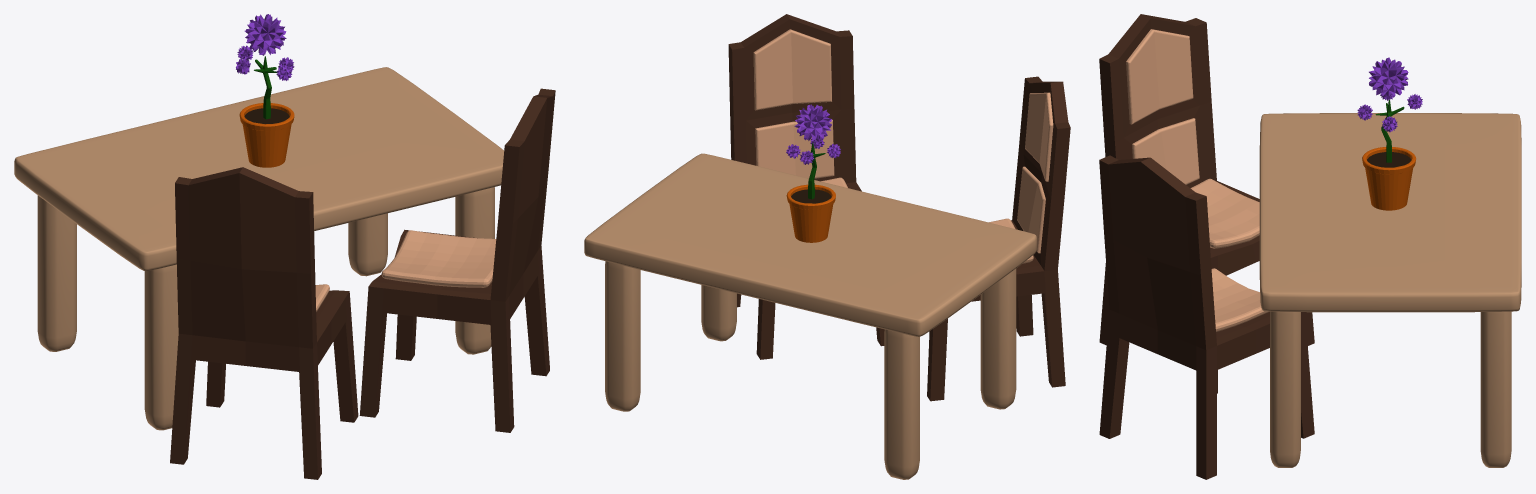
Rendered from d-moebel-komp-1.glb.
3 views of the same model, side by side, from view 1: azimuth 30°, elevation 25°; view 2: azimuth 150°, elevation 25°; view 3: azimuth 270°, elevation 25° (orthographic). The views are drawn at different scales.
Visible parts, largest first — view 1: Wood_Table_Big.002; view 2: Wood_Table_Big.002; view 3: Wood_Table_Big.002.
Part boxes in pixels (left/top/right/bottom): Wood_Table_Big.002: left=14, top=14, right=555, bottom=479; Wood_Table_Big.002: left=584, top=14, right=1070, bottom=479; Wood_Table_Big.002: left=1099, top=14, right=1521, bottom=479.
Size of the model in its own units: 1.6 by 1.34 by 1.57.
1 material, 1 textured.
